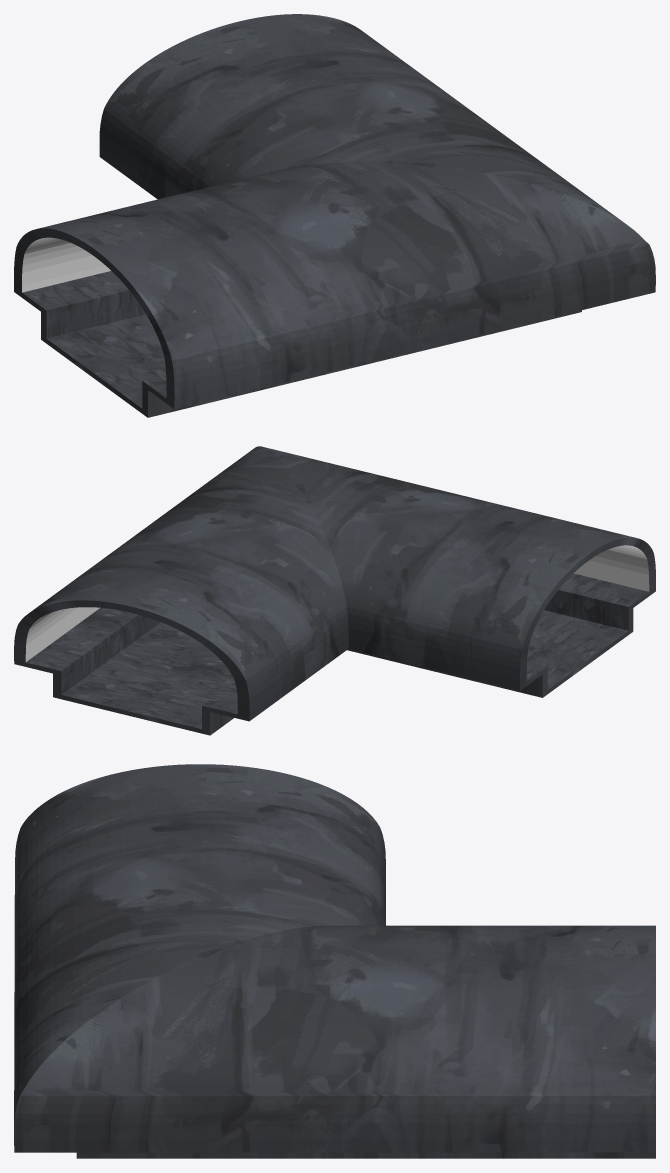
File: curveFixed.fbx
The picture shows the model from 3 angles, top to bottom: view 1: azimuth 30°, elevation 25°; view 2: azimuth 150°, elevation 25°; view 3: azimuth 270°, elevation 25°; orthographic projection. The views are drawn at different scales.
Visible parts, largest first — view 1: Cylinder; view 2: Cylinder; view 3: Cylinder.
Boxes of the visible parts, left/top/right/bottom form: Cylinder: left=14, top=14, right=655, bottom=417; Cylinder: left=14, top=446, right=655, bottom=735; Cylinder: left=14, top=764, right=655, bottom=1158.
Size of the model in its own units: 2076 by 534 by 2076.
Materials: 2 (1 with a texture image).
